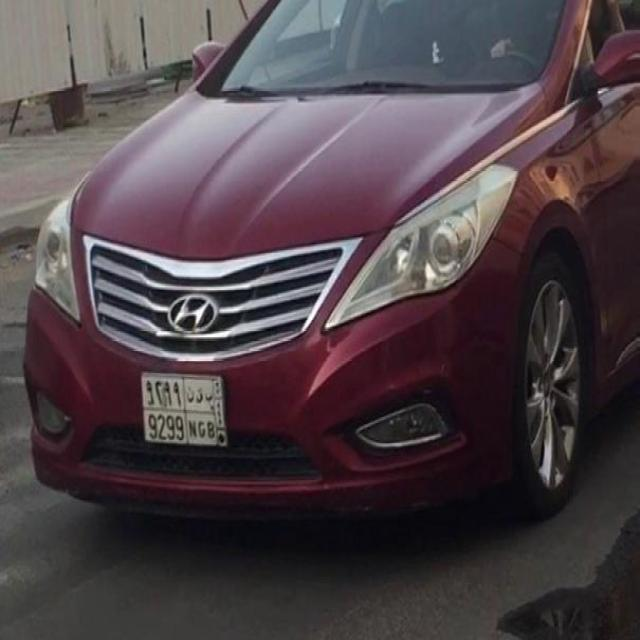Car-plate: (135, 363, 251, 473)
